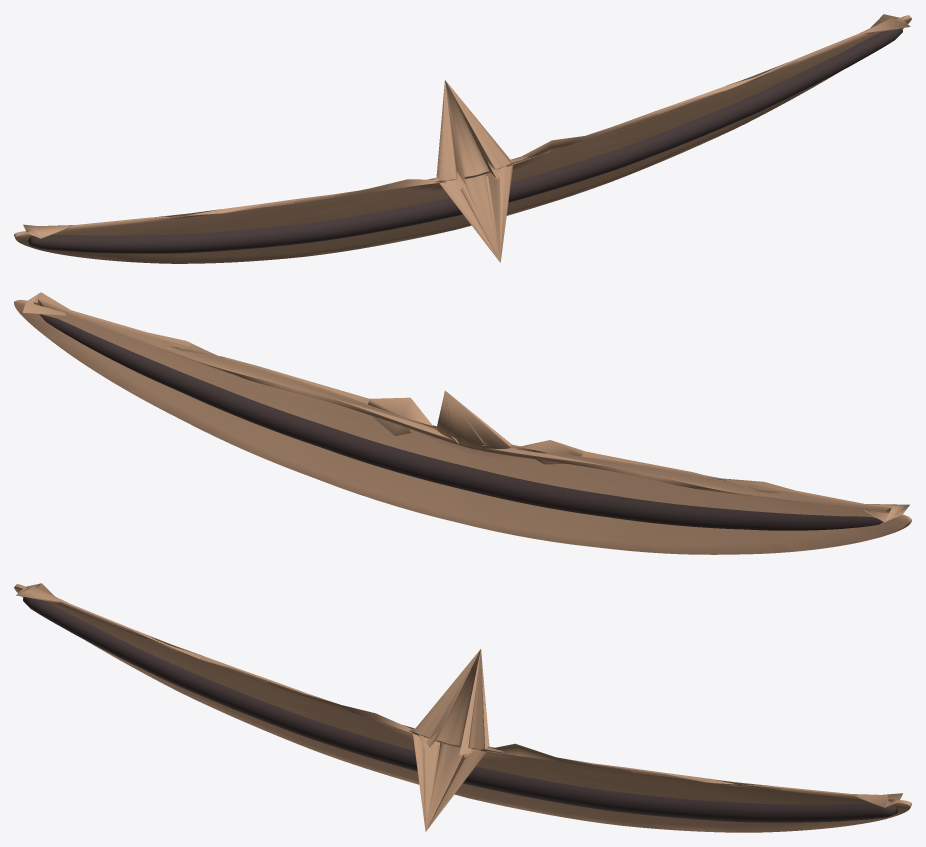
The model's file is Masculine-mouth-lips.glb.
The picture shows the model from 3 angles, top to bottom: view 1: azimuth 30°, elevation 25°; view 2: azimuth 150°, elevation 25°; view 3: azimuth 330°, elevation 25°; orthographic projection.
Parts seen in each view (by area): view 1: Face / soft lips186, Face / lip seam186; view 2: Face / soft lips186, Face / lip seam186; view 3: Face / soft lips186, Face / lip seam186.
Part boxes in pixels (box(x1,y1,x2,y2)): Face / soft lips186: box(14, 14, 911, 263); Face / lip seam186: box(28, 28, 902, 253); Face / soft lips186: box(14, 292, 911, 554); Face / lip seam186: box(39, 314, 883, 530); Face / soft lips186: box(14, 583, 911, 832); Face / lip seam186: box(23, 597, 897, 822).
Bounding box in the file's own units: 0.1643 × 0.025 × 0.0176.
